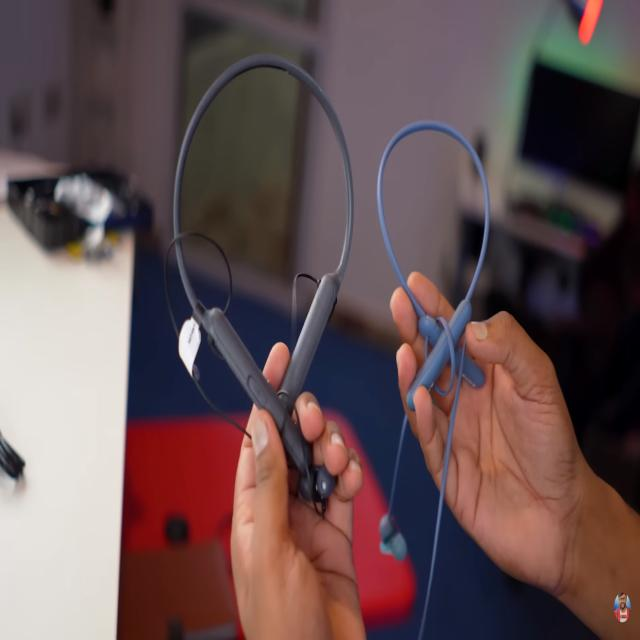Neckband: (163, 52, 355, 517), (376, 120, 491, 640)
